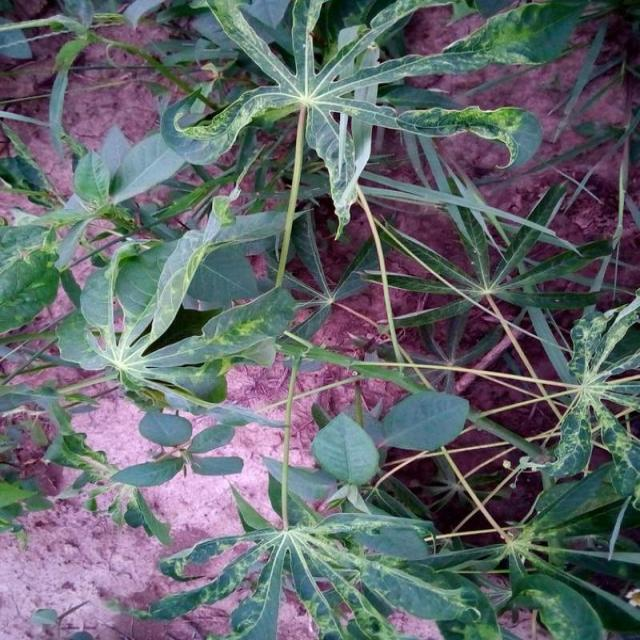cassava leaf: (2, 0, 638, 638), (382, 388, 471, 452), (312, 411, 381, 486)
